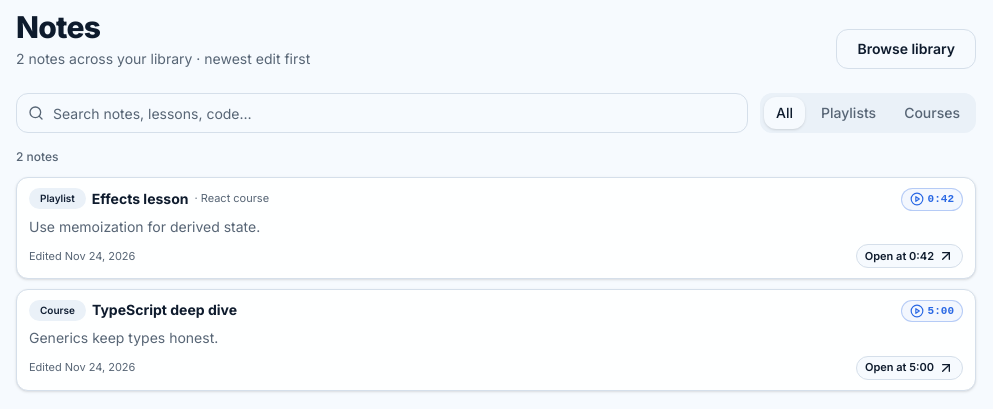
Test case: NotesView › searches note text and metadata, then clears back to everything
Type "generics" into the field labelled "Search notes" at x=382, y=113, box [16,93,748,133]
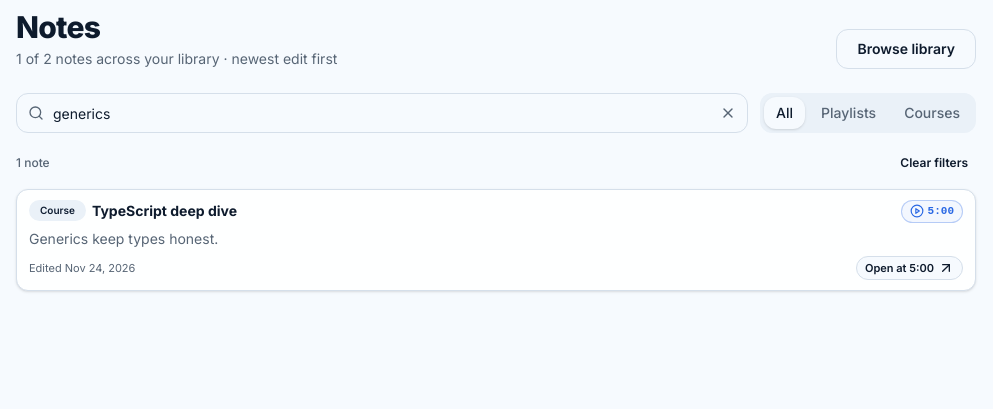
Expected: the text "Generics keep types honest." is shown, [29,230,218,246]
Expected: the text "1 of 2 notes across your library · newest edit first" is shown, [16,49,337,69]
Expected: the text "memoization" is gone
Click the button "Clear filters" at x=934, y=163, box [892,149,976,177]
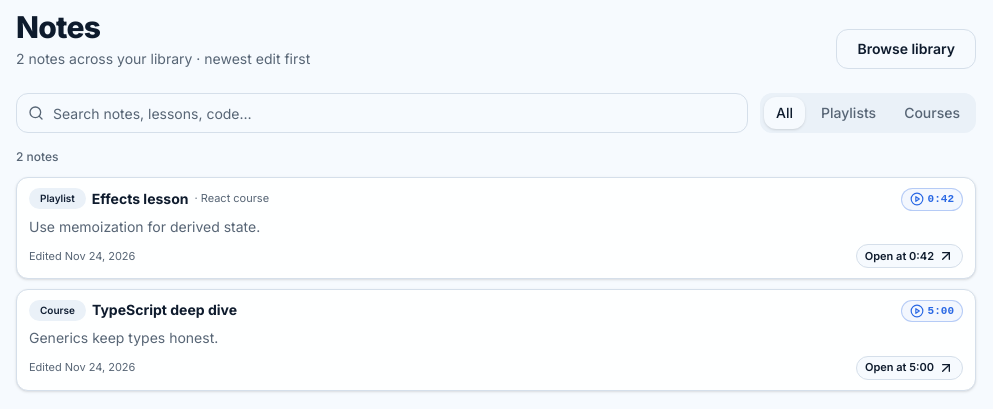
Expected: the text "Generics keep types honest." is shown, [29,329,218,346]
Expected: the text "Use memoization for derived state." is shown, [29,218,260,234]
